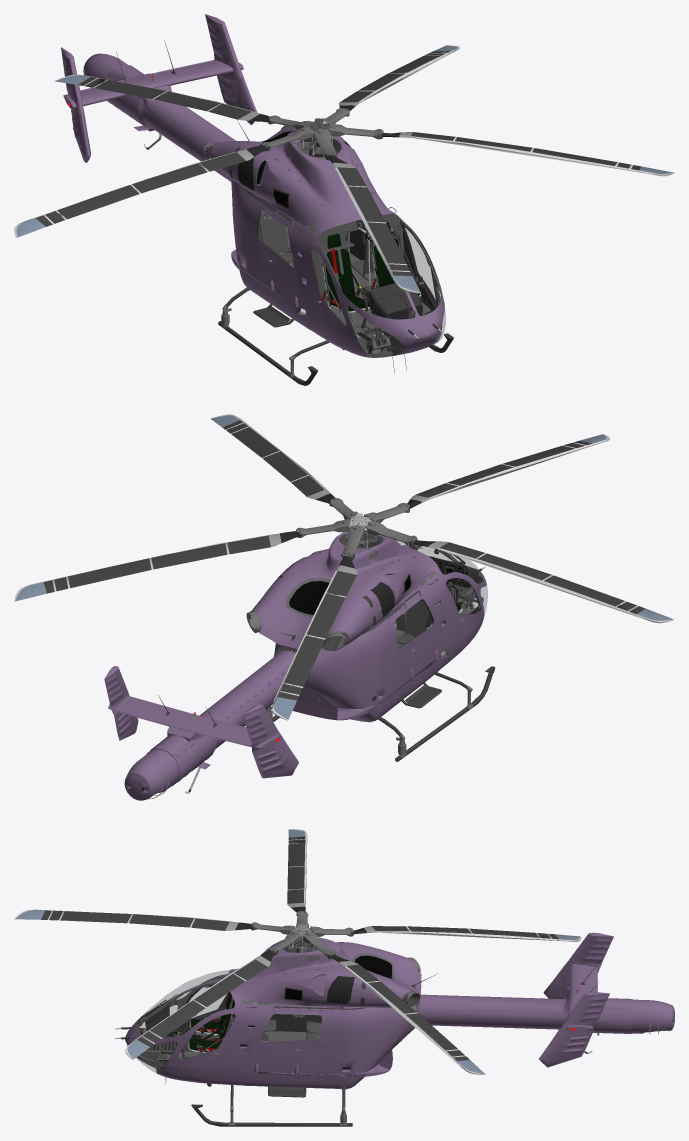
Rendered from md_helicopters_md-902_explorer.glb.
3 renders of one model, top to bottom at view 1: azimuth 30°, elevation 25°; view 2: azimuth 150°, elevation 25°; view 3: azimuth 270°, elevation 25°, orthographic. The views are drawn at different scales.
Parts seen in each view (by area): view 1: object.001_Color_A06_0, rotor, object.013_Color_006_0, object.012__Charcoal__0, Right_door, object.026_Color_002_0, object.025_M_0134_DimGray_0, object.006_Translucent_Glass_Gray_0, object.019_black2_0, object.017_M_0136_Charcoal_0; view 2: object.001_Color_A06_0, rotor, Right_door, object.012__Charcoal__0, object.013_Color_006_0, object.027_Color_A06_0, object.019_black2_0, object.008_Fencing_Mesh_Blue_0, object.026_Color_002_0, object.016_M_24_0, object.006_Translucent_Glass_Gray_0; view 3: object.001_Color_A06_0, rotor, Left_door, object.013_Color_006_0, object.012__Charcoal__0, object.006_Translucent_Glass_Gray_0, object.019_black2_0, object.025_M_0134_DimGray_0, Right_door, object.026_Color_002_0, object.008_Fencing_Mesh_Blue_0, object.016_M_24_0.
Boxes of the visible parts, box(x1,y1,x2,y2) form: object.001_Color_A06_0: box(61, 14, 444, 357); rotor: box(14, 45, 674, 293); object.013_Color_006_0: box(203, 125, 442, 378); object.012__Charcoal__0: box(107, 40, 453, 385); Right_door: box(254, 203, 299, 308); object.026_Color_002_0: box(260, 213, 429, 350); object.025_M_0134_DimGray_0: box(324, 222, 422, 311); object.006_Translucent_Glass_Gray_0: box(386, 218, 445, 356); object.019_black2_0: box(146, 147, 434, 340); object.017_M_0136_Charcoal_0: box(288, 146, 423, 351); object.001_Color_A06_0: box(104, 530, 486, 800); rotor: box(14, 414, 674, 720); Right_door: box(388, 590, 438, 689); object.012__Charcoal__0: box(154, 542, 495, 794); object.013_Color_006_0: box(247, 533, 484, 761); object.027_Color_A06_0: box(292, 689, 337, 720); object.019_black2_0: box(130, 559, 479, 792); object.008_Fencing_Mesh_Blue_0: box(289, 581, 329, 614); object.026_Color_002_0: box(396, 551, 477, 644); object.016_M_24_0: box(246, 549, 461, 650); object.006_Translucent_Glass_Gray_0: box(398, 541, 487, 614); object.001_Color_A06_0: box(125, 932, 674, 1089); rotor: box(14, 829, 581, 1074); Left_door: box(252, 1005, 327, 1075); object.013_Color_006_0: box(136, 941, 420, 1125); object.012__Charcoal__0: box(121, 944, 667, 1126); object.006_Translucent_Glass_Gray_0: box(137, 970, 229, 1073); object.019_black2_0: box(140, 942, 674, 1072); object.025_M_0134_DimGray_0: box(173, 992, 234, 1051); Right_door: box(270, 1014, 321, 1032); object.026_Color_002_0: box(138, 996, 321, 1064); object.008_Fencing_Mesh_Blue_0: box(355, 955, 391, 978); object.016_M_24_0: box(154, 958, 420, 1052).
Size of the model in its own units: 1204 by 431 by 1476.
